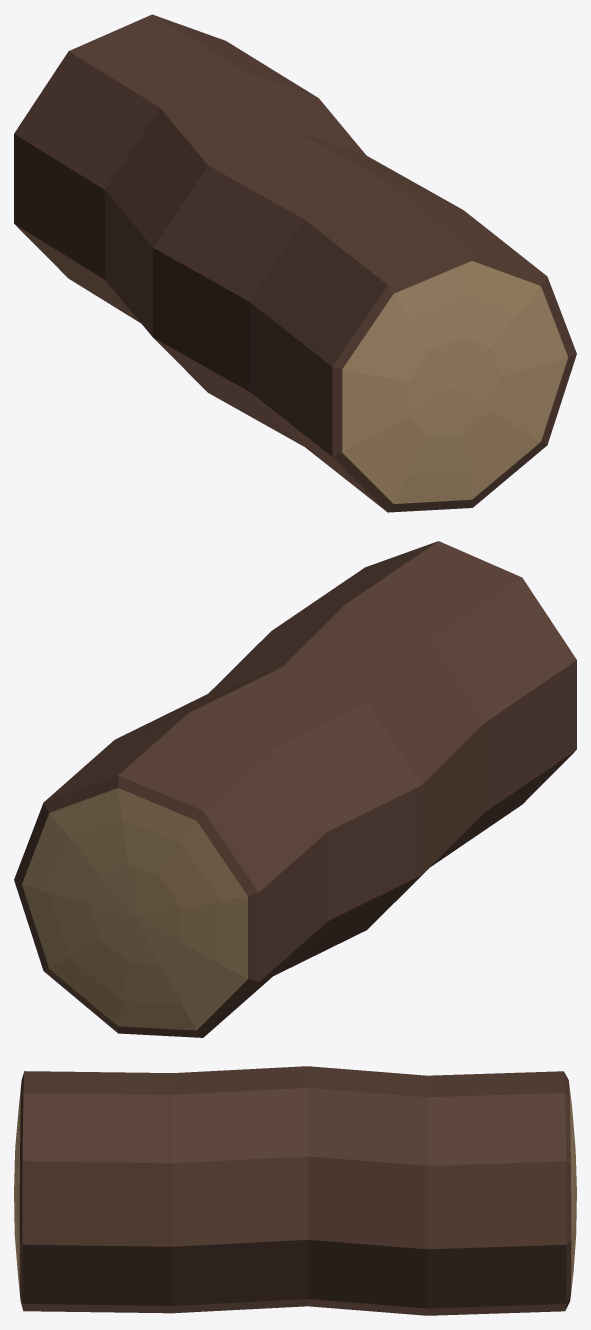
File: Log(Pickup).fbx
3 views of the same model, one above another, from view 1: azimuth 30°, elevation 25°; view 2: azimuth 150°, elevation 25°; view 3: azimuth 270°, elevation 25° (orthographic). The views are drawn at different scales.
Parts seen in each view (by area): view 1: Log; view 2: Log; view 3: Log.
Part boxes in pixels (x1,y1,x2,y2): Log: (14,14,576,512); Log: (14,541,576,1037); Log: (14,1066,576,1315).
Bounding box in the file's own units: 21.23 × 19.7 × 46.
